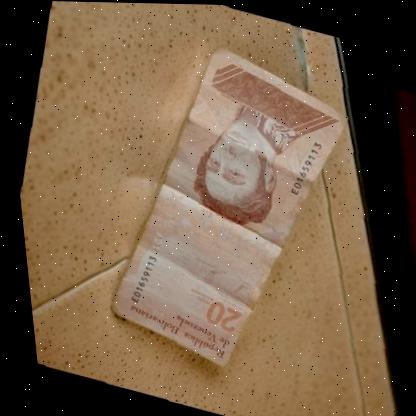twenty-front-vef: (29, 68, 412, 350)
